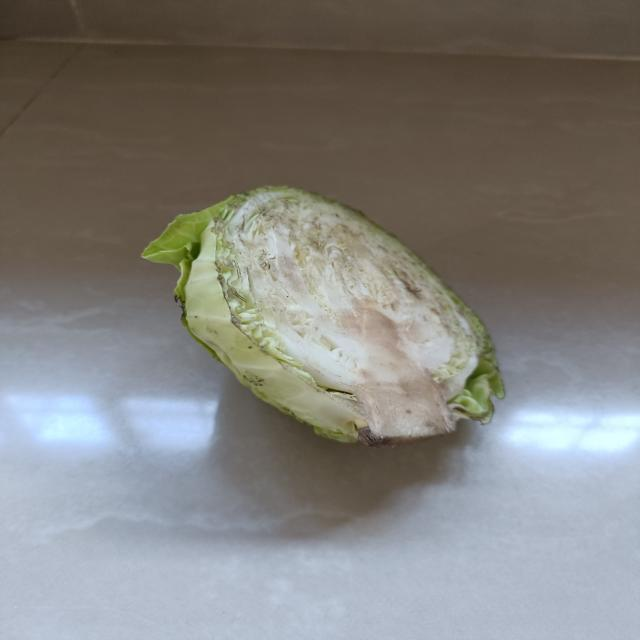cabbage: (172, 184, 494, 444)
